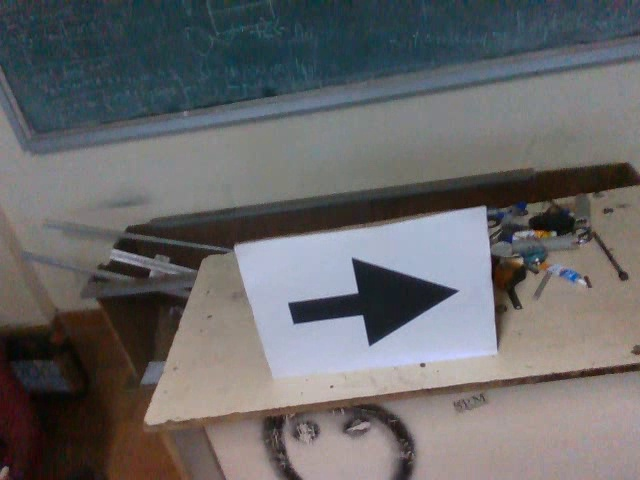Right: (284, 255, 462, 348)
